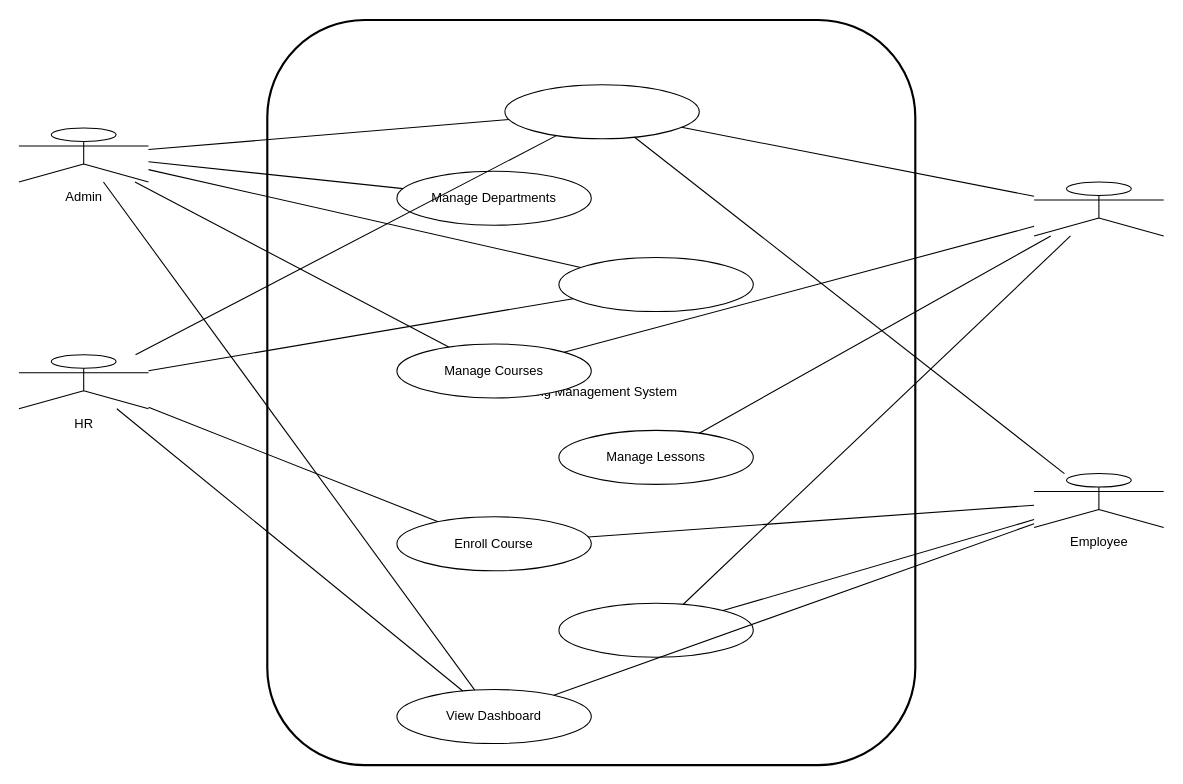
This 1183x784 diagram has some shape labels left out. The shapes that lost their labels are listed below. From the top down, each one's box as (x1, y1, x2, y2) in pixels, then its label:
(504, 84, 699, 139): Login
(1033, 181, 1164, 236): Trainer
(558, 256, 753, 312): Manage Users
(558, 602, 753, 657): Take Quiz
